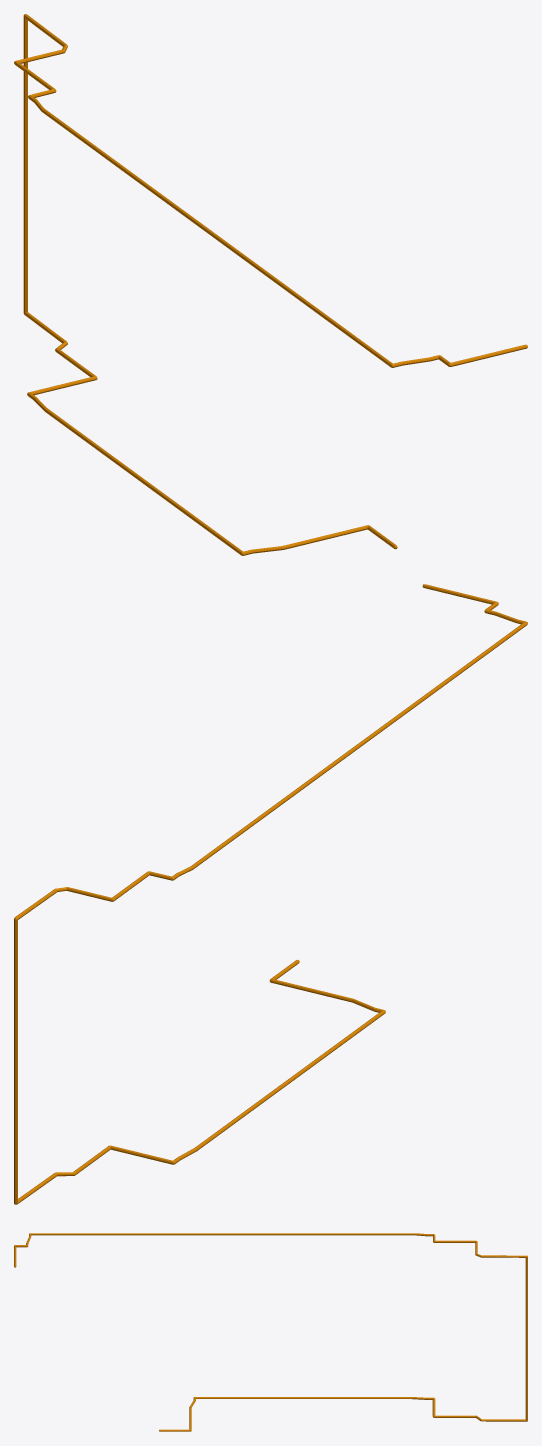
The picture shows the model from 3 angles, top to bottom: view 1: azimuth 30°, elevation 25°; view 2: azimuth 150°, elevation 25°; view 3: azimuth 270°, elevation 25°; orthographic projection. The views are drawn at different scales.
Size of the model in its own units: 662 by 1520 by 4265.
